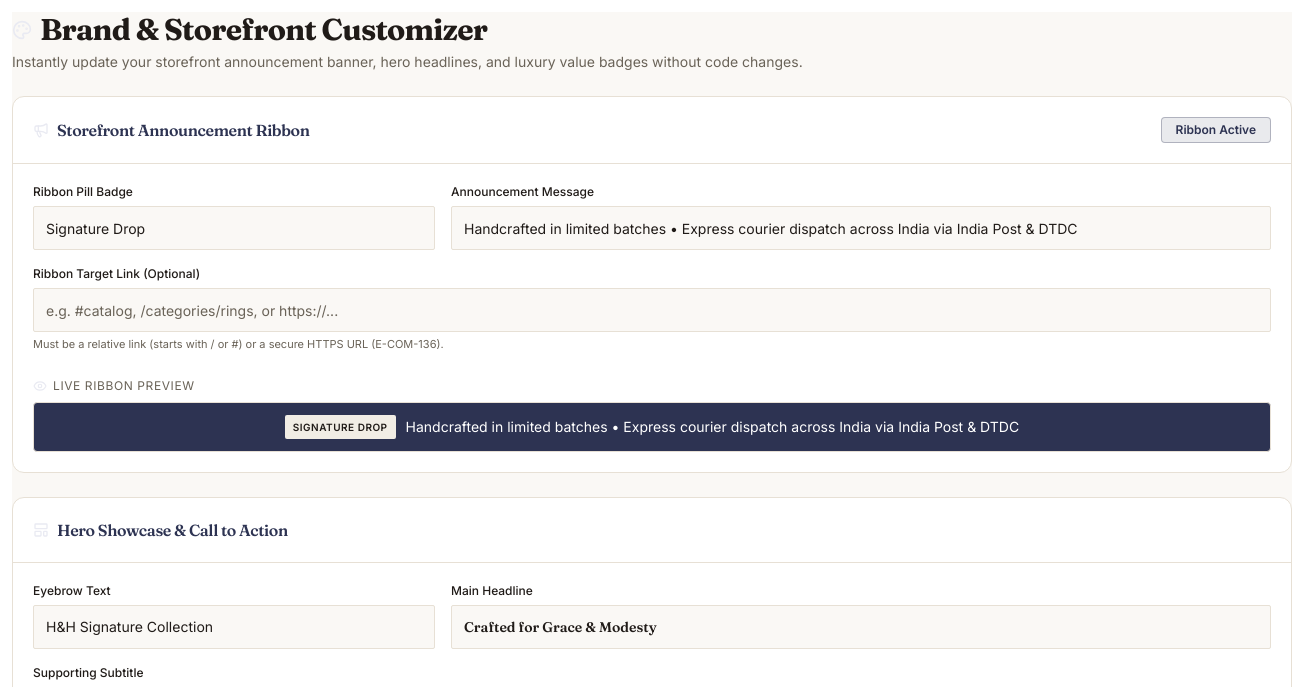
BrandCustomizerDashboard Component › toggles announcement ribbon visibility
Click the button with aria-label "disable announcement ribbon" at (1216, 130), box [1160,117,1271,143]
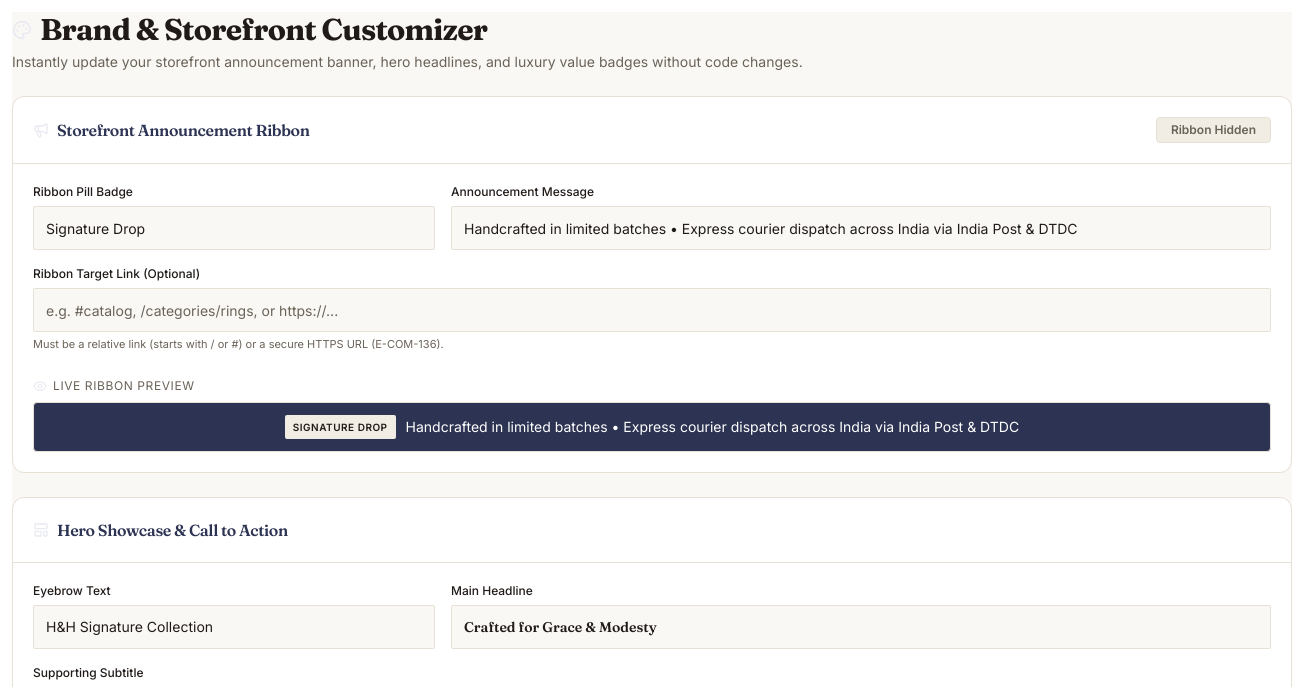
Check: the button named "disable announcement ribbon" reads "Ribbon Hidden", box [1156,117,1271,143]
